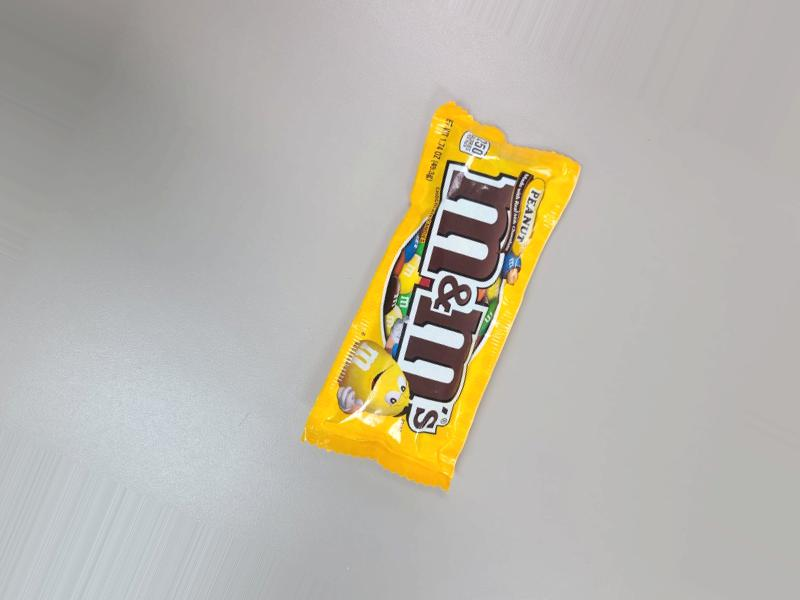m&m: (306, 111, 570, 482)
